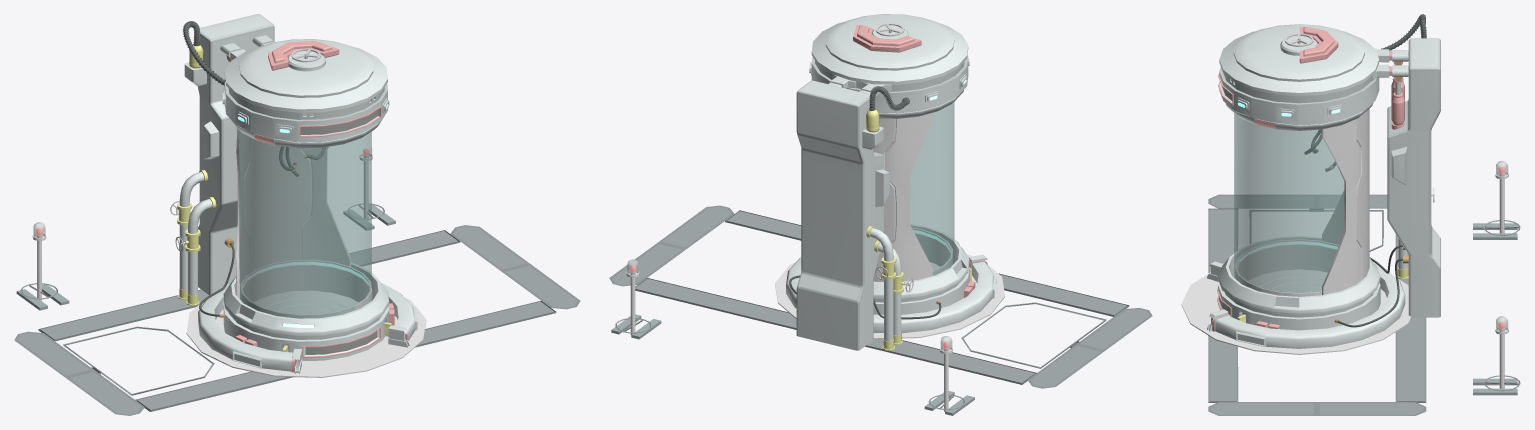
The model's file is capsule well.fbx.
3 renders of one model, left to right at view 1: azimuth 30°, elevation 25°; view 2: azimuth 150°, elevation 25°; view 3: azimuth 270°, elevation 25°, orthographic. The views are drawn at different scales.
Visible parts, largest first — view 1: pCylinder1, polySurface1, details_pCylinder4, pCylinder11, capsuleBack, pCylinder2, pCylinder35, secondary_pCylinder4, pCylinder15, pCylinder19, pCylinder20, middle32 (+4 smaller); view 2: capsuleBack, polySurface1, details_pCylinder4, pCylinder1, pCylinder11, secondary_pCylinder4, pCylinder2, pCylinder15, pCylinder20, pCylinder35, middle30, pCylinder36 (+3 smaller); view 3: pCylinder1, details_pCylinder4, polySurface1, capsuleBack, pCylinder2, pCylinder11, secondary_pCylinder4, pCylinder35, pCylinder15, pCube8, middle32, middle30 (+3 smaller).
Boxes of the visible parts, x1=… form: pCylinder1: x1=239, y1=131, x2=371, y2=318; polySurface1: x1=14, y1=203, x2=580, y2=415; details_pCylinder4: x1=222, y1=39, x2=389, y2=148; pCylinder11: x1=236, y1=128, x2=350, y2=299; capsuleBack: x1=197, y1=14, x2=274, y2=295; pCylinder2: x1=223, y1=263, x2=389, y2=360; pCylinder35: x1=241, y1=260, x2=372, y2=318; secondary_pCylinder4: x1=198, y1=283, x2=417, y2=373; pCylinder15: x1=186, y1=297, x2=426, y2=377; pCylinder19: x1=175, y1=197, x2=216, y2=305; pCylinder20: x1=170, y1=170, x2=208, y2=299; middle32: x1=16, y1=205, x2=395, y2=310; capsuleBack: x1=796, y1=80, x2=889, y2=350; polySurface1: x1=609, y1=205, x2=1152, y2=409; details_pCylinder4: x1=809, y1=14, x2=969, y2=118; pCylinder1: x1=910, y1=102, x2=954, y2=275; pCylinder11: x1=873, y1=112, x2=932, y2=281; secondary_pCylinder4: x1=786, y1=254, x2=996, y2=333; pCylinder2: x1=873, y1=224, x2=969, y2=314; pCylinder15: x1=775, y1=254, x2=1004, y2=339; pCylinder20: x1=866, y1=226, x2=896, y2=350; pCylinder35: x1=912, y1=228, x2=952, y2=275; middle30: x1=626, y1=259, x2=952, y2=411; pCylinder36: x1=853, y1=25, x2=921, y2=52; pCylinder1: x1=1234, y1=113, x2=1344, y2=293; details_pCylinder4: x1=1218, y1=24, x2=1379, y2=130; polySurface1: x1=1208, y1=194, x2=1520, y2=415; capsuleBack: x1=1387, y1=38, x2=1440, y2=317; pCylinder2: x1=1217, y1=236, x2=1380, y2=330; pCylinder11: x1=1322, y1=109, x2=1369, y2=294; secondary_pCylinder4: x1=1207, y1=261, x2=1405, y2=348; pCylinder35: x1=1235, y1=239, x2=1338, y2=296; pCylinder15: x1=1181, y1=272, x2=1411, y2=354; pCube8: x1=1372, y1=49, x2=1408, y2=129; middle32: x1=1473, y1=223, x2=1517, y2=395; middle30: x1=1495, y1=160, x2=1508, y2=388.
Bounding box in the file's own units: 168 × 97.65 × 109.
